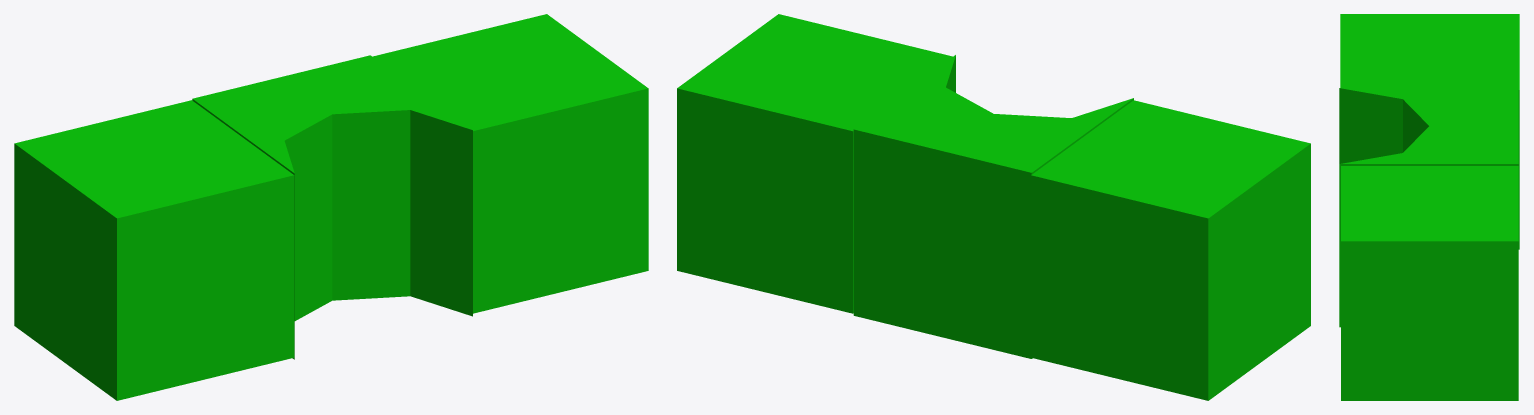
The model's file is UCXArchBlock_low.fbx.
3 renders of one model, left to right at view 1: azimuth 30°, elevation 25°; view 2: azimuth 150°, elevation 25°; view 3: azimuth 270°, elevation 25°, orthographic. The views are drawn at different scales.
Parts seen in each view (by area): view 1: UCX_ArchBlock_low_04; view 2: UCX_ArchBlock_low_04; view 3: UCX_ArchBlock_low_04.
Part boxes in pixels (x1=…): UCX_ArchBlock_low_04: x1=14, y1=14, x2=648, y2=400; UCX_ArchBlock_low_04: x1=677, y1=14, x2=1310, y2=400; UCX_ArchBlock_low_04: x1=1339, y1=14, x2=1519, y2=400.
Size of the model in its own units: 0.1345 by 0.045 by 0.0451.
